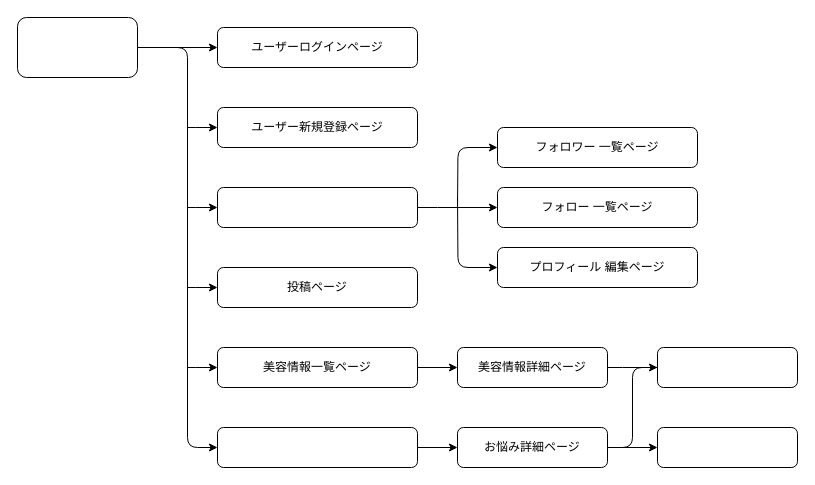
Some shapes in this 815 by 485 pixel diagram are drawn without their labels. Each missing label, with the box of its shape:
お悩み情報一覧ページ: (216, 426, 418, 468)
トップページ: (16, 16, 138, 78)
ユーザーマイページ: (216, 186, 418, 228)
削除ページ: (656, 426, 798, 468)
編集ページ: (656, 346, 798, 388)
